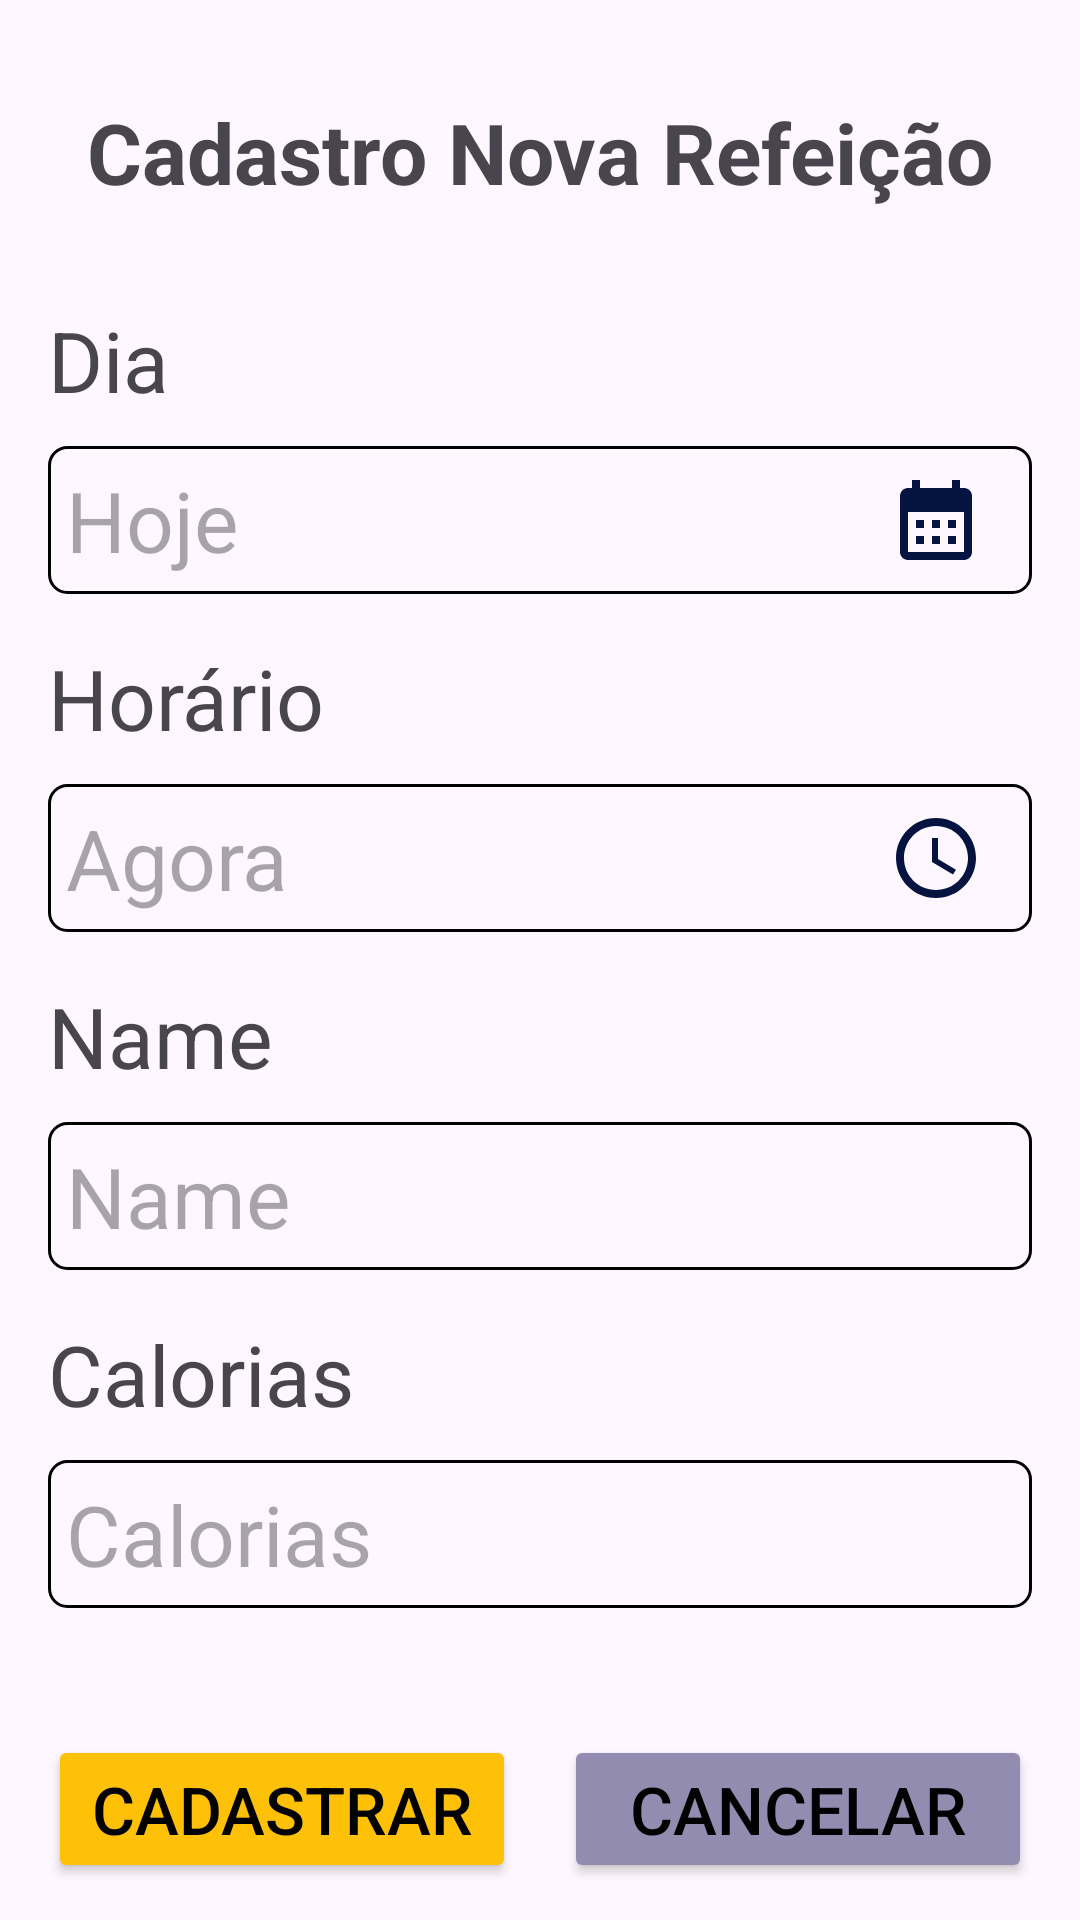

Icon bounding boxes for this 1080x1920 phone screenshot, format bbox(x1, y1, x2, y2):
access time: bbox(896, 818, 976, 898)
calendar month: bbox(900, 480, 972, 560)
